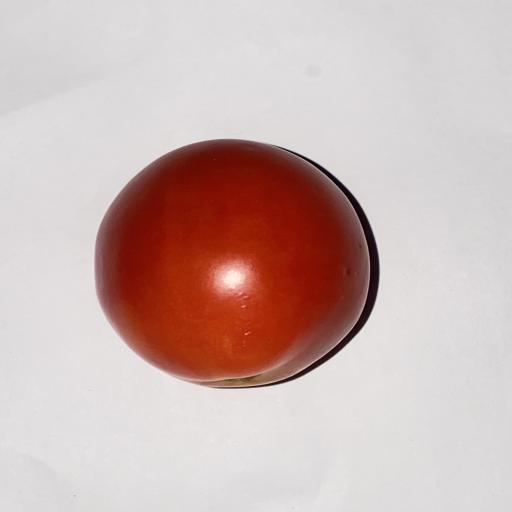ripe: (95, 139, 370, 386)
